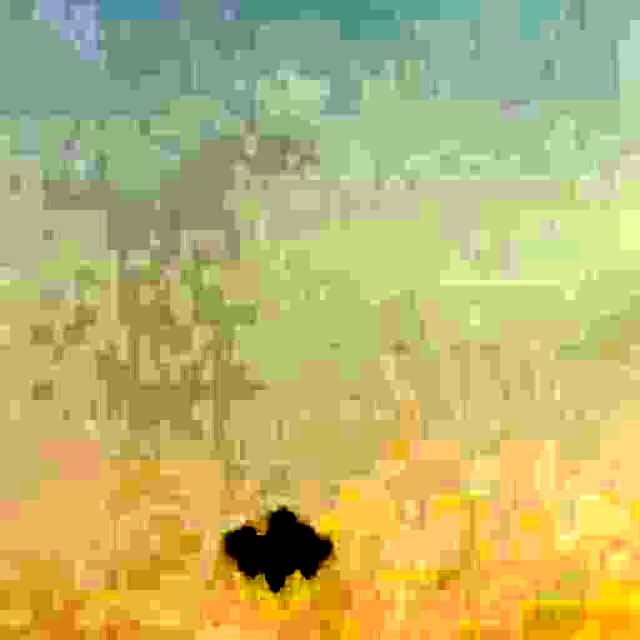bird: (224, 484, 329, 601)
